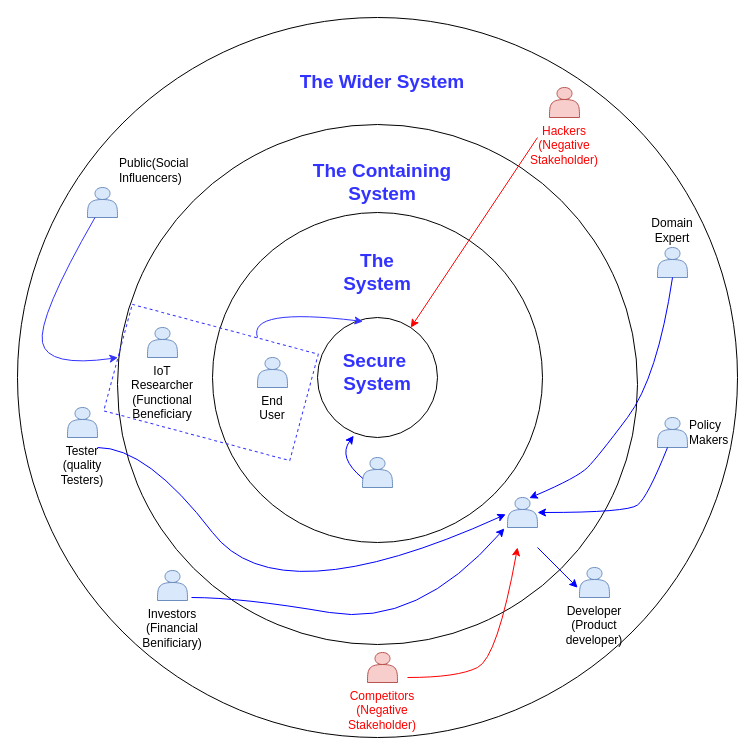
This 755x755 diagram has some shape labels left out. Each missing label, with the centre of its shape:
"Admin (maintenance operator)" goes at (x=377, y=472).
"Owner" goes at (x=522, y=512).
